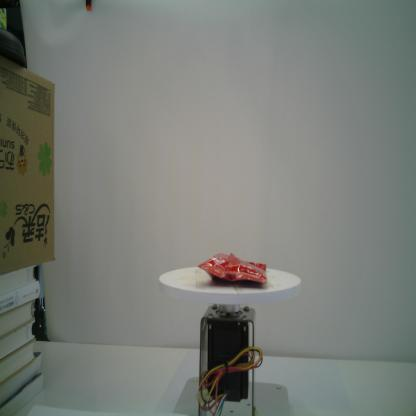Instant Drink: (197, 251, 269, 287)
